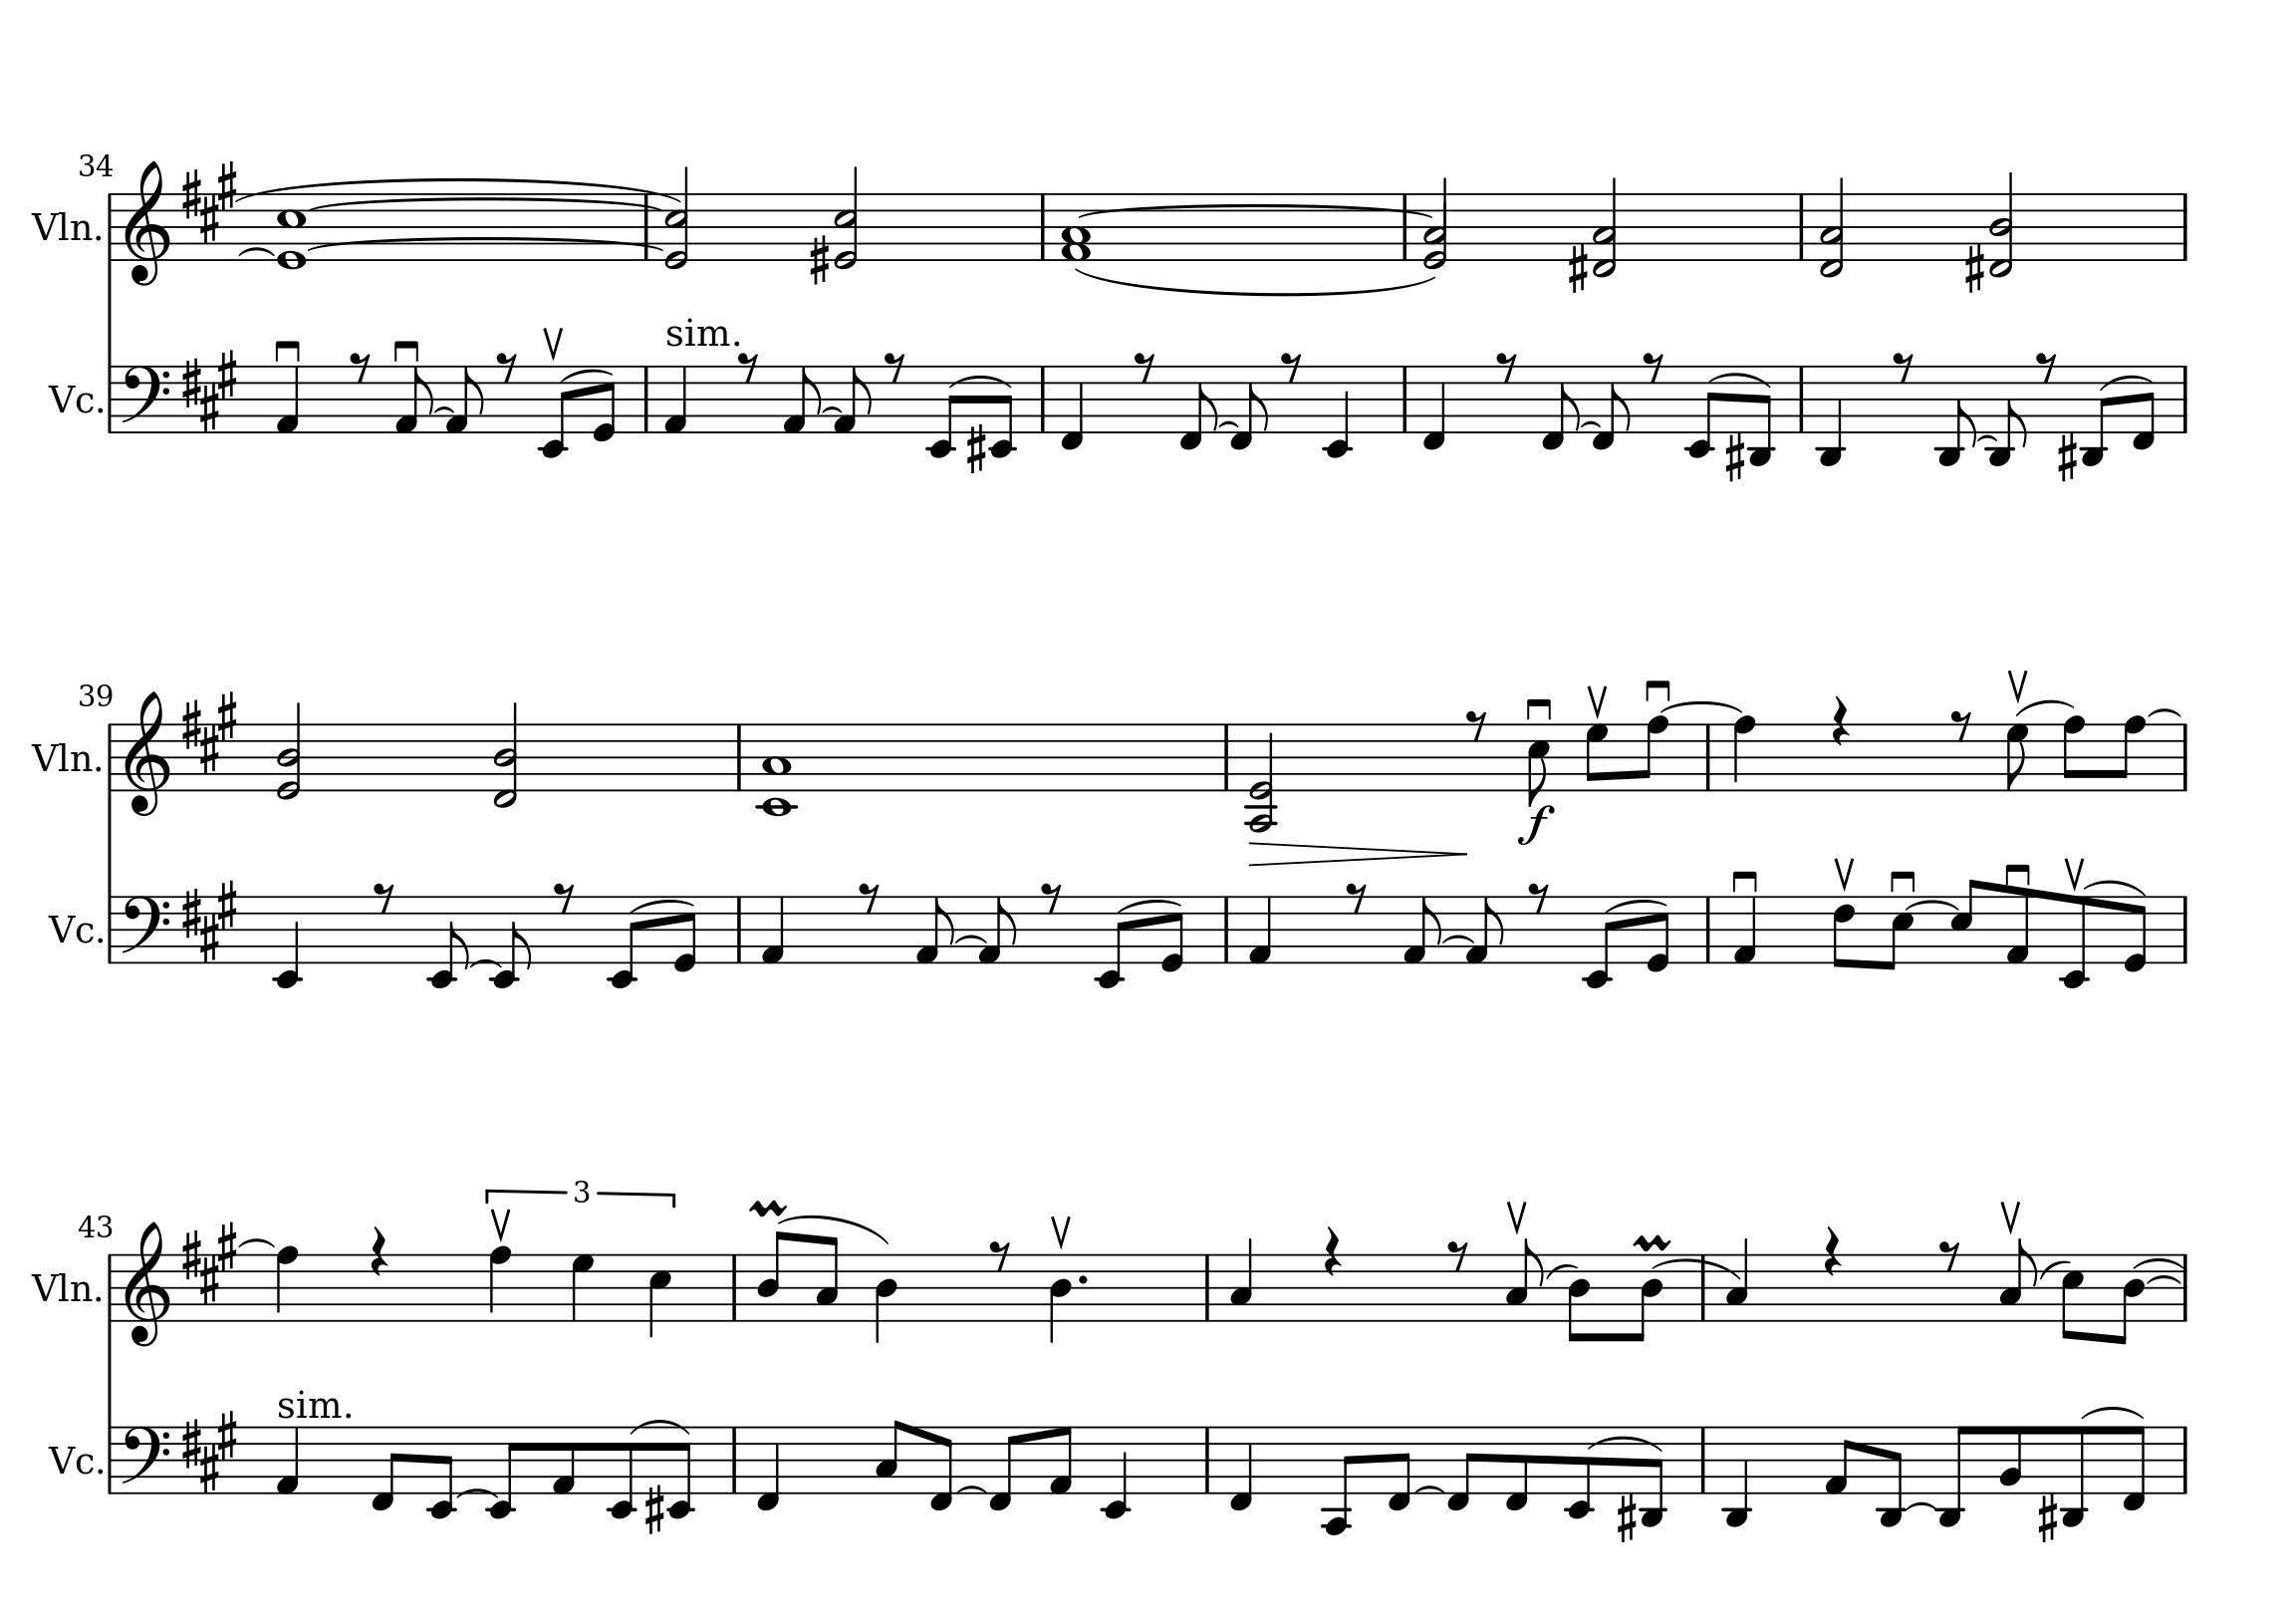1_-2_3: (759, 721, 794, 821)
1_0_5: (274, 190, 306, 272)
1_1_3: (1059, 192, 1091, 264)
2_-1_3: (1818, 178, 1846, 278), (1592, 176, 1618, 279)
2_-1_4: (492, 701, 520, 808), (1989, 174, 2015, 279)
2_-4_0: (1244, 722, 1281, 837)
2_0_3: (1421, 176, 1449, 271)
2_0_4: (272, 703, 302, 801)
2_0_5: (831, 167, 859, 271), (664, 167, 692, 267)
3: (566, 1176, 592, 1214), (77, 151, 95, 178), (77, 680, 95, 707), (97, 1211, 112, 1239)
4: (95, 151, 114, 178), (77, 1211, 95, 1239)
4_-1: (754, 1424, 782, 1513), (1228, 1424, 1254, 1513), (1058, 364, 1084, 452), (1421, 364, 1446, 452)
4_-2: (272, 893, 302, 990), (1321, 364, 1351, 459), (1100, 1422, 1128, 1519)
4_-3: (1815, 362, 1845, 469), (1722, 1422, 1751, 1529)
4_1: (272, 364, 300, 436), (1245, 895, 1274, 965), (1730, 895, 1758, 965), (662, 364, 689, 434), (759, 895, 785, 965), (274, 1425, 300, 1496)
4_3: (1228, 1236, 1254, 1322), (1725, 1236, 1750, 1323)
4_4: (1047, 1250, 1073, 1345), (873, 1250, 898, 1345)
4_5: (646, 1251, 673, 1339)
4_7: (569, 1253, 596, 1323)
4_8: (487, 1243, 513, 1323), (1730, 714, 1757, 793), (274, 1243, 300, 1322)
8_-1: (1228, 364, 1268, 450), (1179, 362, 1217, 452), (1541, 362, 1579, 452), (1592, 364, 1630, 450), (986, 1422, 1021, 1513), (369, 1424, 402, 1513), (1444, 1424, 1477, 1513), (2120, 1422, 2148, 1513), (928, 1424, 956, 1513), (1386, 1425, 1414, 1512), (1504, 1424, 1530, 1513), (2131, 364, 2157, 452)
8_-2: (488, 893, 532, 988), (427, 893, 469, 988), (1683, 364, 1720, 460), (1579, 893, 1616, 990), (485, 1422, 522, 1519), (924, 364, 959, 460), (606, 893, 641, 990), (538, 364, 573, 459), (1094, 893, 1128, 988), (1563, 1422, 1595, 1519), (425, 1424, 457, 1519), (2059, 891, 2089, 990), (606, 1425, 636, 1520), (987, 364, 1015, 459), (668, 1425, 694, 1519)
8_-3: (1983, 362, 2029, 466), (1936, 364, 1978, 468), (1936, 1424, 1973, 1529), (2078, 364, 2112, 471), (1876, 1425, 1906, 1527), (1639, 1427, 1667, 1527), (1748, 364, 1774, 468), (2062, 1424, 2087, 1527)
8_-4: (1321, 1422, 1356, 1536)
8_0: (592, 364, 618, 443), (1159, 893, 1186, 972), (2122, 895, 2148, 974), (673, 893, 697, 974), (1646, 893, 1671, 974)
8_1: (977, 893, 1019, 965), (392, 364, 434, 434), (831, 364, 873, 434), (913, 895, 956, 965), (1400, 895, 1442, 965), (444, 364, 485, 434), (782, 364, 822, 434), (1465, 895, 1505, 965), (1823, 1424, 1855, 1496), (2004, 886, 2031, 965), (1047, 1422, 1073, 1496), (550, 1424, 576, 1496)
8_2: (1997, 1424, 2024, 1496)
8_3: (1997, 1236, 2038, 1322), (1504, 1236, 1542, 1322), (873, 1417, 905, 1494), (813, 1234, 838, 1323)
8_4: (1630, 1250, 1665, 1345), (755, 1229, 789, 1323), (2113, 1251, 2145, 1346), (1565, 1251, 1592, 1345)
8_5: (1950, 877, 1982, 965), (1883, 893, 1915, 972), (2059, 1250, 2085, 1341), (1527, 722, 1551, 805)
8_6: (1830, 893, 1855, 970)
8_7: (2004, 721, 2031, 793), (1585, 722, 1609, 793)
8_8: (2113, 714, 2147, 793), (1637, 714, 1669, 793), (2061, 714, 2087, 793)
9: (95, 680, 114, 707)
A_S: (177, 162, 239, 243), (179, 877, 239, 960), (179, 1410, 239, 1492), (179, 350, 239, 431), (181, 691, 239, 773), (179, 1222, 237, 1302)
Diminuendo_hairpin: (1075, 269, 1435, 299), (235, 179, 683, 200), (302, 236, 659, 253), (1247, 840, 1469, 866), (1077, 202, 1430, 218), (307, 199, 655, 209)
Down_bow: (272, 337, 302, 362), (1525, 696, 1555, 721), (1888, 868, 1918, 893), (1644, 677, 1671, 703), (392, 337, 420, 362), (1730, 868, 1758, 893), (2004, 861, 2032, 884)
Fclef: (119, 893, 172, 967), (119, 1422, 172, 1496), (119, 362, 172, 434)
Gclef: (123, 160, 172, 288), (123, 689, 172, 817), (123, 1220, 170, 1350)
Rests4: (1822, 1223, 1843, 1278), (1830, 694, 1852, 747), (1321, 1223, 1342, 1276), (369, 1225, 388, 1278)
Rests8: (1444, 1236, 1470, 1271), (552, 877, 576, 914), (882, 350, 908, 383), (1038, 881, 1065, 914), (1936, 1237, 1962, 1271), (1890, 348, 1915, 383), (2034, 348, 2059, 383), (372, 877, 397, 912), (987, 1236, 1012, 1271), (348, 350, 372, 383), (1133, 350, 1158, 383), (1641, 350, 1665, 383), (1948, 707, 1973, 740), (857, 881, 882, 914), (1344, 881, 1368, 914), (1527, 881, 1551, 914), (736, 352, 761, 383), (495, 350, 518, 383), (1281, 350, 1303, 383), (1495, 350, 1518, 383), (1465, 707, 1488, 740)
Sharp: (1565, 241, 1588, 294), (1962, 241, 1985, 294), (2055, 431, 2078, 483), (808, 232, 829, 286), (964, 422, 986, 475), (1723, 431, 1744, 483), (643, 1483, 664, 1536), (1616, 1492, 1637, 1543), (2036, 1492, 2057, 1543)
ShortTrill: (747, 1195, 789, 1218), (1632, 1232, 1671, 1251)
Single_barline: (2175, 1425, 2194, 1492), (726, 1425, 743, 1492), (2175, 193, 2192, 258), (2177, 366, 2194, 431), (1217, 724, 1235, 789), (1217, 896, 1235, 961), (102, 364, 118, 432), (2178, 1253, 2194, 1322), (638, 366, 653, 432), (2178, 724, 2194, 791), (2178, 896, 2194, 963), (1200, 1253, 1216, 1320), (1200, 1425, 1216, 1492), (1035, 193, 1051, 258), (1397, 193, 1412, 258), (731, 724, 747, 789), (731, 896, 747, 961), (726, 1255, 741, 1320), (1695, 1255, 1711, 1320), (1794, 195, 1809, 258), (1035, 367, 1051, 431), (1397, 367, 1412, 431), (1794, 367, 1809, 431), (102, 192, 116, 262), (639, 197, 655, 258), (1697, 1425, 1711, 1494), (102, 896, 116, 963), (1704, 891, 1718, 956), (1702, 726, 1716, 787), (104, 722, 116, 791), (104, 1253, 116, 1322), (104, 1425, 116, 1492)
Slur: (775, 1213, 892, 1244), (1653, 1257, 1741, 1278), (1706, 369, 1773, 390), (1585, 1434, 1664, 1452), (1660, 700, 1743, 715), (949, 373, 1014, 390), (2082, 877, 2147, 895), (627, 1418, 692, 1436), (2015, 698, 2075, 715), (629, 896, 694, 912), (1117, 896, 1180, 912), (1604, 896, 1667, 912), (2082, 1404, 2145, 1420), (1904, 896, 1960, 914), (2099, 371, 2150, 390), (560, 366, 613, 381), (2133, 1255, 2184, 1271), (2040, 1258, 2071, 1278), (2143, 1271, 2182, 1285), (1546, 1262, 1579, 1278), (457, 1487, 499, 1499), (239, 1236, 276, 1248), (2148, 707, 2182, 719), (466, 958, 502, 968), (239, 246, 274, 257), (1440, 933, 1476, 944), (954, 933, 987, 944), (956, 1483, 987, 1494), (1414, 1483, 1446, 1494), (1906, 1499, 1936, 1510)
Tremolo_bar: (1045, 1211, 1075, 1250), (1997, 1197, 2024, 1234), (541, 323, 566, 360), (1504, 1197, 1528, 1234), (488, 1206, 513, 1243), (1586, 682, 1609, 721), (1832, 854, 1855, 891), (2008, 666, 2029, 703), (2064, 854, 2085, 889)
Vc: (49, 376, 95, 418), (42, 910, 93, 947), (47, 1441, 93, 1478)
Vln: (32, 206, 93, 250), (32, 736, 93, 779), (32, 1265, 93, 1308)
dot: (1075, 1271, 1091, 1285)
f: (1516, 803, 1556, 845)
